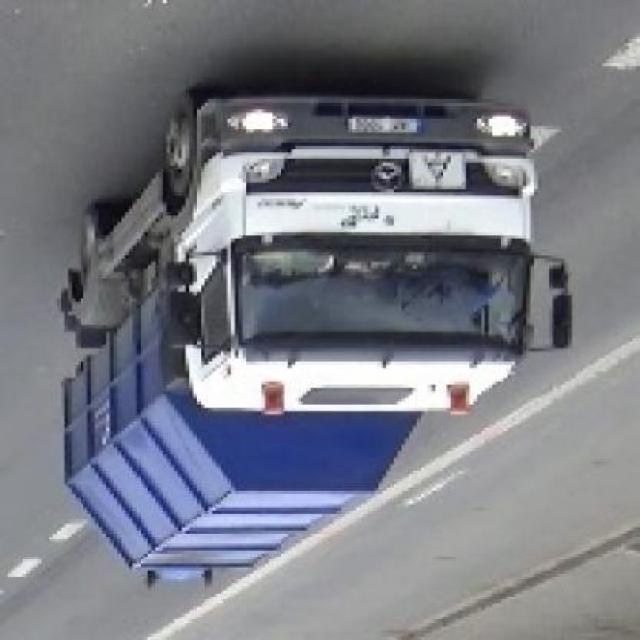truck: (50, 67, 569, 598)
